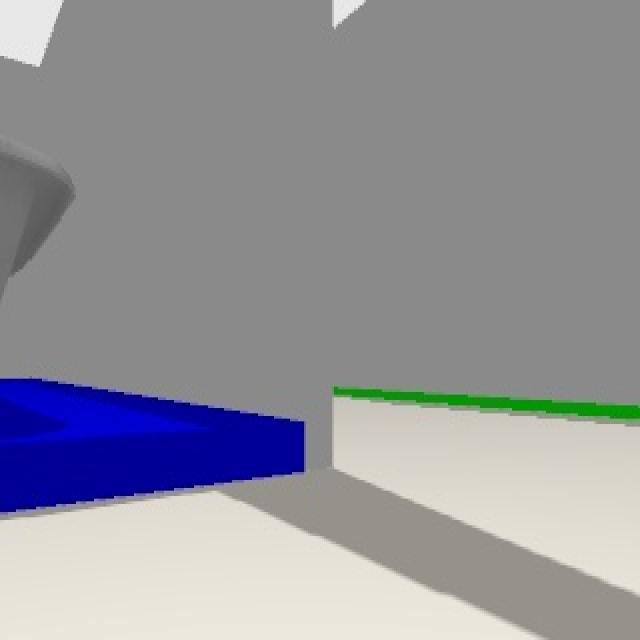bathtub: (0, 139, 78, 309)
